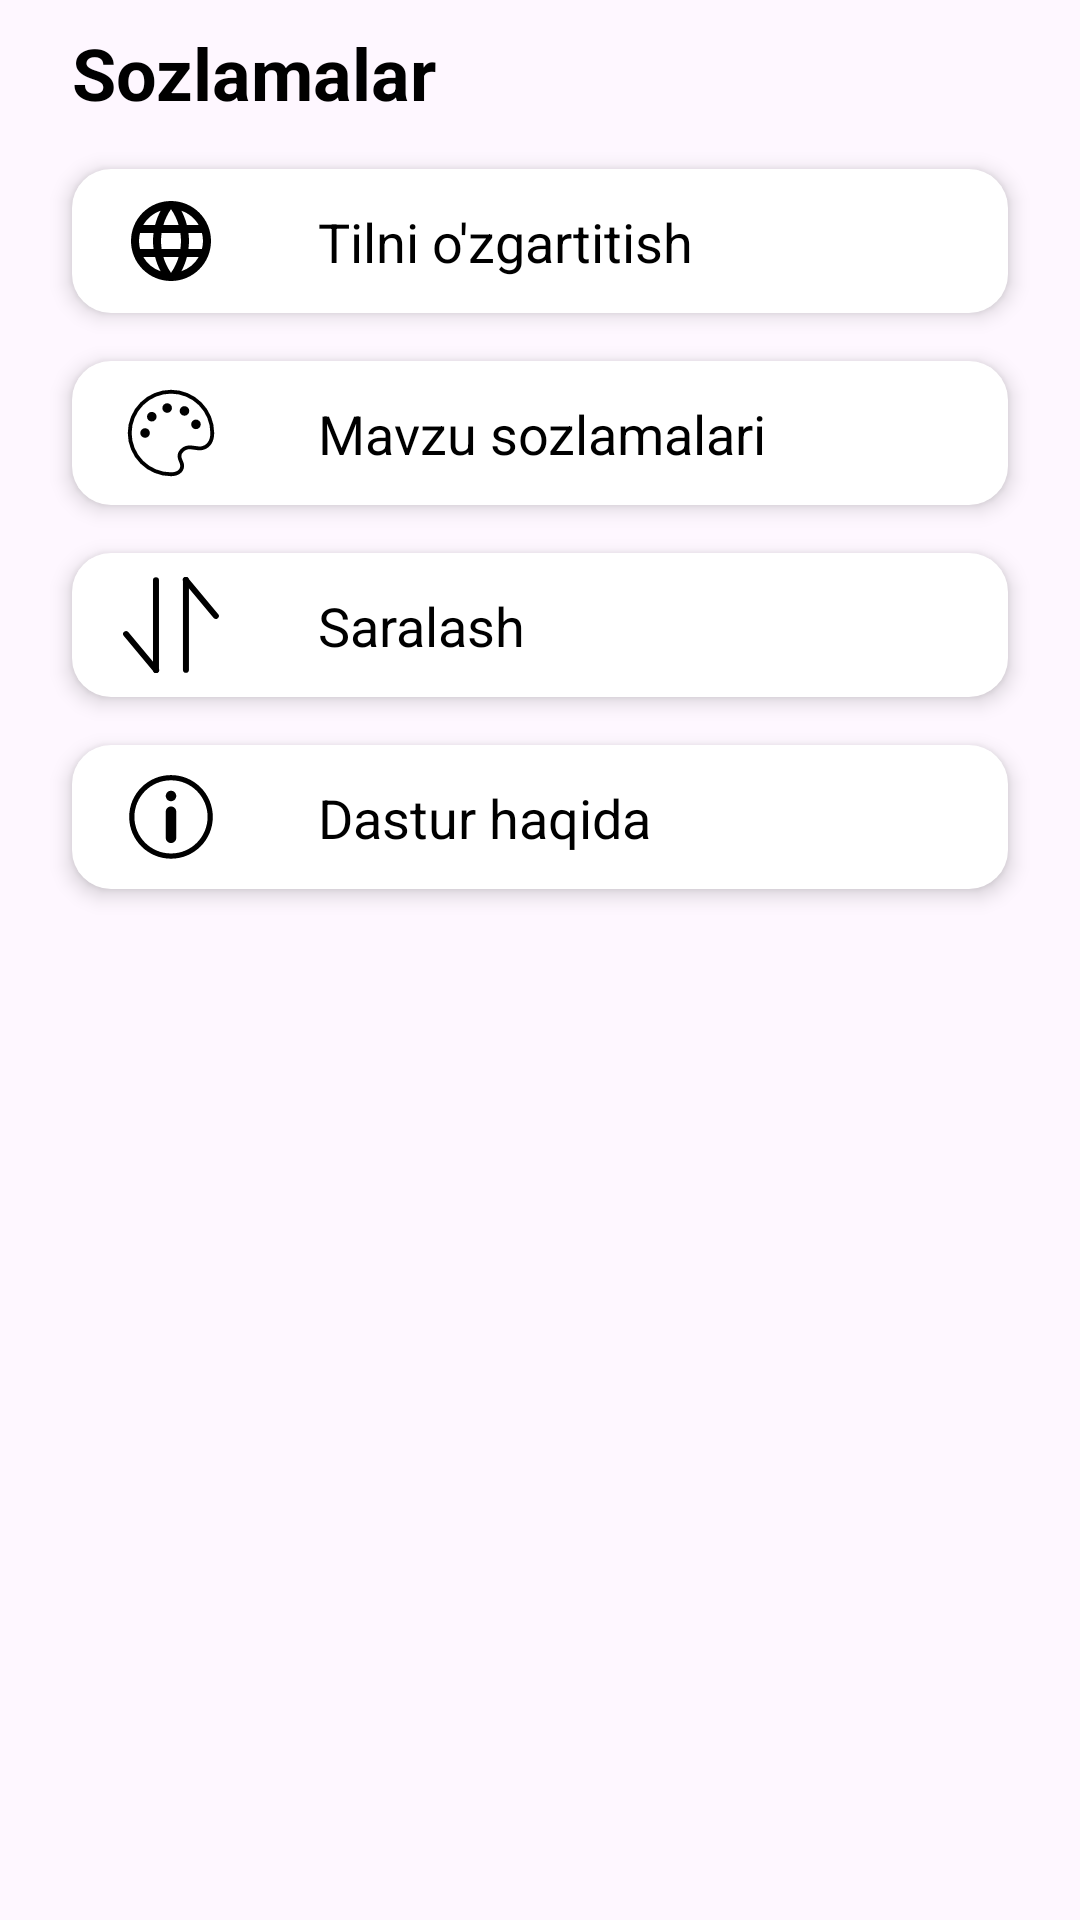

Icons on this 1080*1920 Android screen, each with its box as bbox=(x1, y1, x2, y2):
about: bbox=(98, 746, 213, 859)
language: bbox=(131, 201, 211, 281)
sort: bbox=(123, 577, 219, 673)
theme: bbox=(127, 389, 215, 477)
